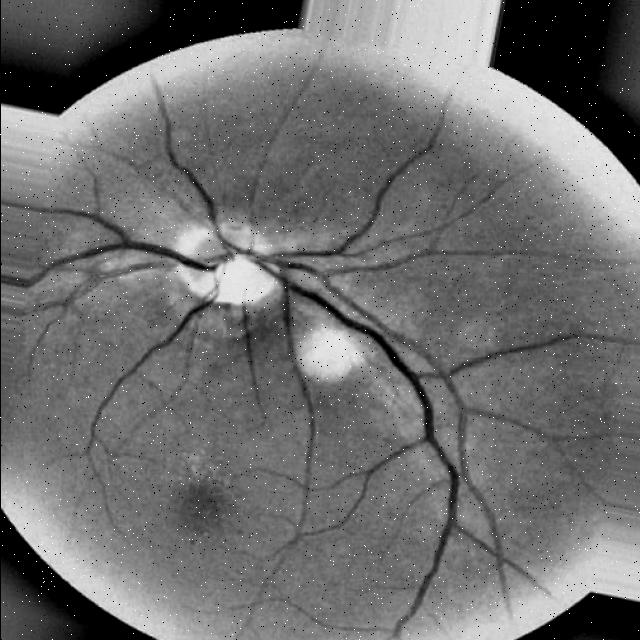Macula: (164, 462, 244, 545)
Nerves: (259, 157, 470, 584), (80, 282, 213, 511), (26, 207, 247, 301), (276, 295, 316, 561)
Optic Disk: (167, 206, 296, 324)
